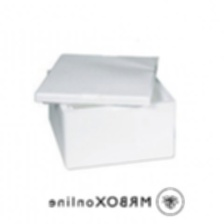foam_box: (28, 46, 182, 174)
